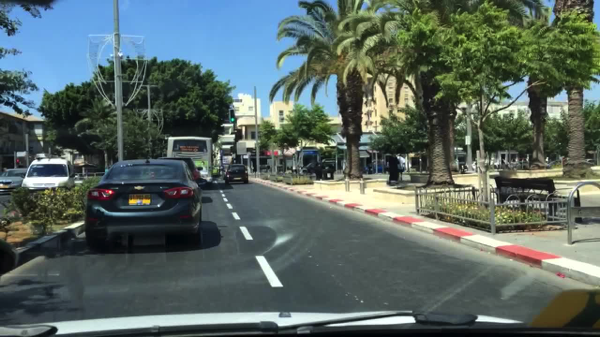bus: (167, 136, 212, 185)
car: (85, 158, 203, 250), (20, 158, 75, 197), (162, 158, 200, 187), (1, 167, 28, 194), (301, 162, 334, 176), (223, 164, 247, 183), (365, 159, 386, 174)
person: (386, 152, 398, 186), (397, 154, 405, 181)
traffic light: (228, 109, 235, 124)
